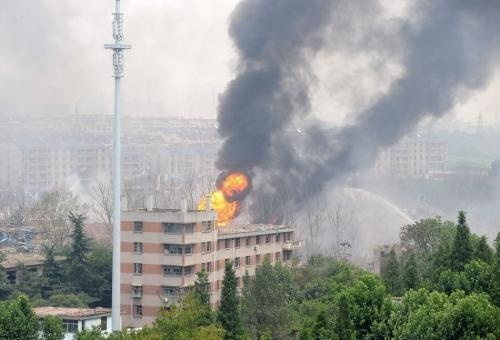fire: (197, 170, 248, 223)
